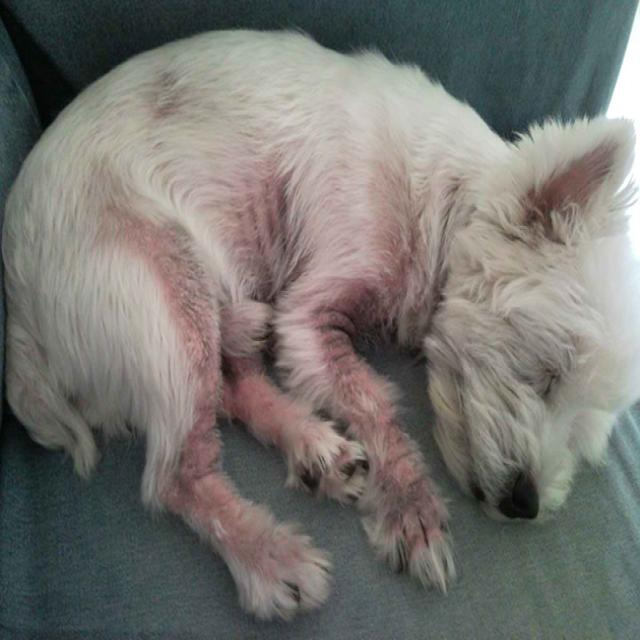fungal infection: (367, 175, 409, 344), (376, 408, 429, 533), (224, 346, 290, 442), (177, 376, 223, 500), (155, 269, 220, 355), (242, 184, 293, 267), (395, 485, 442, 557), (235, 518, 299, 569), (118, 218, 194, 260), (170, 472, 236, 518), (331, 338, 369, 408), (322, 271, 360, 331)
